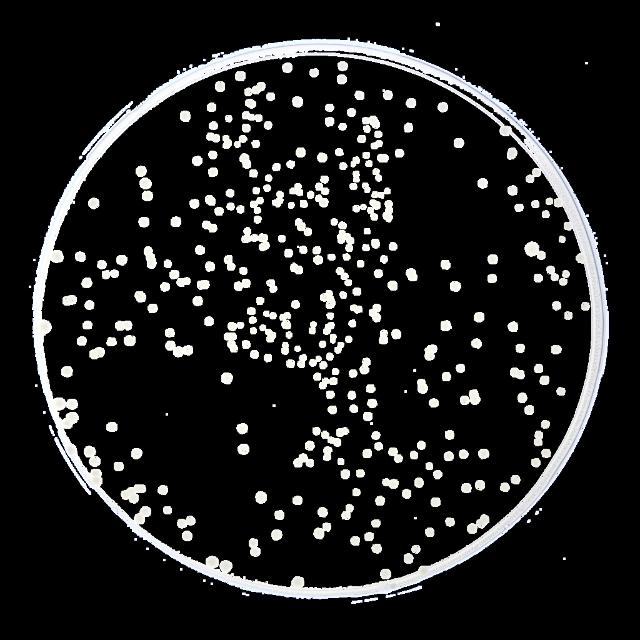colony: (418, 343, 442, 363), (36, 317, 56, 338), (85, 346, 106, 364), (412, 378, 432, 396), (520, 240, 540, 258), (382, 200, 396, 224), (218, 368, 236, 386), (58, 292, 78, 308), (494, 122, 514, 138), (336, 229, 356, 245), (84, 474, 106, 488), (114, 252, 132, 268), (48, 248, 66, 264), (154, 481, 170, 499), (473, 513, 491, 529), (468, 387, 482, 407), (402, 120, 416, 140), (180, 342, 197, 358), (474, 176, 491, 192), (129, 446, 145, 462), (437, 256, 453, 272), (572, 251, 588, 267), (404, 268, 420, 284), (79, 274, 93, 292), (60, 362, 74, 380), (402, 96, 420, 110), (288, 262, 306, 276), (190, 294, 207, 308), (86, 196, 100, 212), (201, 192, 217, 206), (80, 318, 96, 332), (145, 302, 161, 316), (202, 260, 218, 274), (173, 345, 187, 361), (66, 397, 82, 411), (52, 396, 66, 412), (104, 421, 120, 435), (180, 530, 196, 544), (234, 422, 250, 436), (235, 443, 251, 457), (252, 491, 268, 505), (203, 555, 219, 569), (217, 560, 233, 574), (472, 478, 488, 492), (441, 428, 457, 442), (426, 396, 442, 410), (512, 342, 528, 356), (438, 319, 454, 333), (448, 280, 464, 294), (484, 252, 500, 266), (506, 182, 520, 198), (504, 146, 520, 160), (238, 153, 252, 169), (138, 190, 156, 202), (162, 326, 180, 338), (334, 426, 352, 438), (362, 383, 380, 395), (138, 177, 154, 190), (339, 511, 355, 524), (471, 337, 484, 353), (178, 109, 192, 123), (169, 215, 183, 229), (74, 334, 88, 348), (133, 289, 147, 303), (66, 411, 80, 425), (60, 417, 74, 431), (138, 504, 152, 518), (183, 514, 197, 528), (269, 528, 283, 542), (290, 575, 304, 589), (312, 527, 326, 541), (508, 472, 522, 486), (554, 384, 568, 398), (506, 320, 520, 334), (452, 136, 466, 150), (436, 101, 450, 115), (392, 146, 406, 160), (221, 134, 233, 150), (136, 216, 152, 228), (109, 267, 125, 279), (202, 316, 218, 328), (82, 446, 98, 458), (561, 220, 577, 232), (265, 328, 277, 344), (358, 355, 374, 367), (386, 278, 398, 294), (310, 254, 326, 266), (134, 165, 148, 178), (349, 486, 363, 499), (316, 504, 329, 518), (194, 280, 212, 290), (214, 80, 226, 94), (345, 106, 357, 120), (352, 89, 366, 101), (294, 147, 308, 159), (314, 152, 328, 164), (191, 154, 203, 168), (188, 197, 200, 211), (94, 258, 108, 270), (74, 250, 88, 262), (84, 298, 96, 312), (104, 336, 118, 348), (124, 334, 136, 348), (112, 318, 124, 332), (122, 319, 134, 333), (112, 461, 126, 473), (132, 513, 146, 525), (378, 568, 392, 580), (362, 530, 376, 542), (348, 534, 360, 548), (466, 522, 478, 536), (460, 482, 472, 496), (478, 447, 490, 461), (442, 451, 456, 463), (354, 468, 368, 480), (340, 468, 352, 482), (303, 440, 317, 452), (296, 452, 310, 464), (370, 428, 382, 442), (458, 395, 470, 409), (522, 404, 536, 416), (550, 344, 564, 356), (472, 312, 486, 324), (550, 300, 564, 312), (562, 308, 574, 322), (578, 300, 592, 312), (539, 209, 553, 221), (529, 166, 543, 178), (382, 90, 396, 102), (270, 198, 284, 210), (258, 241, 272, 253), (390, 326, 402, 340), (387, 240, 399, 254), (368, 198, 382, 210), (348, 304, 364, 314), (212, 206, 225, 218), (222, 201, 235, 213), (195, 244, 208, 256), (291, 456, 303, 469), (318, 197, 330, 210), (381, 475, 392, 489), (360, 448, 374, 459), (365, 398, 379, 409), (417, 438, 428, 452), (292, 96, 304, 108), (281, 62, 293, 74), (234, 70, 246, 82), (337, 60, 349, 72), (336, 73, 348, 85), (250, 138, 262, 150), (207, 166, 219, 178), (224, 187, 236, 199), (235, 204, 247, 216), (160, 281, 172, 293), (90, 456, 102, 468), (249, 546, 261, 558), (370, 542, 382, 554), (370, 518, 382, 530), (374, 495, 386, 507), (402, 552, 414, 564), (410, 543, 422, 555), (424, 526, 436, 538), (498, 482, 510, 494), (346, 390, 358, 402), (372, 440, 384, 452), (454, 362, 466, 374), (516, 392, 528, 404), (539, 375, 551, 387), (532, 362, 544, 374), (532, 273, 544, 285), (486, 272, 498, 284), (513, 202, 525, 214), (522, 173, 534, 185), (268, 285, 280, 297), (222, 333, 240, 341), (240, 338, 252, 350), (289, 298, 301, 310), (378, 336, 390, 348), (371, 312, 383, 324), (323, 322, 335, 334), (302, 227, 314, 239), (371, 237, 382, 250), (135, 484, 149, 494), (118, 490, 132, 500), (272, 510, 286, 520), (342, 503, 356, 513), (429, 498, 443, 508), (530, 455, 540, 469), (515, 368, 525, 382), (534, 251, 548, 261), (376, 153, 390, 163), (280, 319, 294, 329), (206, 101, 218, 112), (176, 517, 187, 529), (400, 488, 412, 499), (304, 458, 316, 469), (362, 411, 374, 422), (441, 371, 452, 383), (252, 213, 264, 224), (240, 233, 252, 244), (284, 358, 296, 369), (414, 476, 424, 489), (371, 140, 384, 150), (376, 254, 389, 264), (144, 254, 160, 262), (88, 468, 104, 476), (308, 68, 320, 78), (245, 99, 257, 109), (208, 120, 218, 132), (324, 102, 334, 114), (324, 116, 334, 128), (334, 146, 344, 158), (338, 160, 348, 172), (270, 162, 282, 172), (262, 173, 274, 183), (207, 150, 219, 160), (101, 270, 111, 282), (163, 257, 173, 269), (207, 223, 217, 235), (142, 246, 154, 256), (146, 260, 158, 270), (168, 269, 180, 279), (176, 279, 186, 291), (164, 341, 176, 351), (162, 504, 172, 516), (291, 495, 303, 505), (248, 538, 260, 548), (320, 522, 332, 532), (444, 518, 456, 528), (458, 449, 470, 459), (388, 478, 398, 490), (327, 405, 339, 415), (325, 390, 337, 400), (347, 404, 359, 414), (392, 454, 404, 464), (539, 420, 551, 430), (533, 430, 545, 440), (532, 438, 544, 448), (540, 448, 552, 458), (509, 366, 519, 378), (559, 276, 569, 288), (561, 268, 573, 278), (530, 198, 540, 210), (300, 198, 310, 210), (258, 232, 270, 242), (238, 266, 250, 276), (232, 280, 242, 292), (242, 278, 252, 290), (254, 296, 266, 306), (237, 318, 247, 330), (227, 320, 237, 332), (248, 349, 260, 359), (317, 360, 329, 370), (317, 381, 329, 391), (328, 376, 338, 388), (374, 267, 384, 279), (352, 286, 362, 298), (370, 302, 382, 312), (296, 220, 306, 232), (325, 300, 337, 310), (256, 81, 266, 92), (337, 122, 348, 132), (262, 183, 272, 194), (432, 470, 443, 480), (543, 196, 553, 207), (357, 134, 368, 144), (318, 174, 329, 184), (263, 352, 273, 363), (312, 371, 322, 382), (360, 367, 370, 378), (337, 289, 348, 299), (348, 318, 358, 329), (279, 348, 291, 357), (251, 85, 261, 95), (265, 92, 275, 102), (240, 110, 250, 120), (253, 113, 263, 123), (263, 120, 273, 130), (241, 123, 251, 133), (238, 134, 248, 144), (232, 140, 242, 150), (205, 132, 215, 142), (286, 160, 296, 170), (201, 219, 211, 229), (424, 460, 434, 470), (319, 430, 329, 440), (334, 438, 344, 448), (388, 446, 398, 456), (409, 450, 419, 460), (545, 264, 555, 274), (550, 272, 560, 282), (556, 234, 566, 244), (554, 198, 564, 208), (374, 130, 384, 140), (369, 115, 379, 125), (364, 159, 374, 169), (348, 182, 358, 192), (376, 191, 386, 201), (314, 181, 324, 191), (321, 186, 331, 196), (242, 225, 252, 235), (249, 233, 259, 243), (223, 254, 233, 264), (226, 262, 236, 272), (265, 277, 275, 287), (246, 306, 256, 316), (248, 315, 258, 325), (268, 312, 278, 322), (284, 330, 294, 340), (296, 360, 306, 370), (308, 358, 318, 368), (330, 367, 340, 377), (348, 369, 358, 379), (362, 226, 372, 236), (328, 216, 338, 226), (338, 220, 348, 230), (335, 266, 345, 276), (344, 335, 354, 345), (368, 308, 378, 318), (327, 252, 337, 262), (312, 245, 322, 255), (284, 248, 294, 258), (298, 245, 308, 255), (370, 212, 380, 222), (319, 292, 329, 302), (182, 276, 194, 284), (322, 446, 334, 454), (254, 197, 266, 205), (252, 207, 264, 215), (226, 340, 238, 348), (354, 260, 366, 268), (324, 289, 336, 297), (247, 113, 256, 123), (322, 453, 332, 462), (312, 426, 321, 436), (362, 150, 371, 160), (277, 234, 287, 243), (308, 328, 318, 337), (352, 204, 361, 214), (361, 244, 372, 252), (342, 279, 353, 287), (244, 87, 252, 97), (224, 114, 232, 124), (212, 133, 220, 143), (249, 170, 259, 178), (252, 185, 260, 195), (336, 458, 346, 466), (325, 436, 335, 444), (362, 126, 372, 134), (360, 117, 370, 125), (350, 156, 360, 164), (375, 174, 385, 182), (382, 187, 392, 195), (296, 188, 304, 198), (306, 190, 314, 200), (288, 200, 296, 210), (275, 190, 285, 198), (249, 200, 259, 208), (249, 326, 257, 336), (308, 320, 318, 328), (325, 352, 335, 360), (320, 377, 330, 385), (380, 328, 388, 338), (342, 253, 352, 261), (340, 272, 350, 280), (336, 341, 346, 349), (330, 334, 338, 344), (293, 218, 303, 226), (357, 202, 367, 210), (342, 245, 353, 252), (349, 161, 358, 169), (352, 170, 361, 178), (228, 346, 240, 352), (279, 342, 291, 348), (318, 340, 327, 348), (333, 346, 342, 354), (326, 312, 334, 321), (372, 167, 380, 175), (361, 182, 369, 190), (364, 186, 372, 194), (288, 187, 296, 195), (262, 310, 270, 318), (284, 311, 292, 319), (298, 353, 306, 361), (315, 355, 323, 363), (315, 194, 323, 202), (366, 206, 374, 214), (371, 122, 381, 128), (351, 177, 361, 183), (280, 312, 286, 322), (294, 183, 302, 190), (372, 191, 378, 199), (260, 324, 266, 332), (294, 346, 302, 352)
